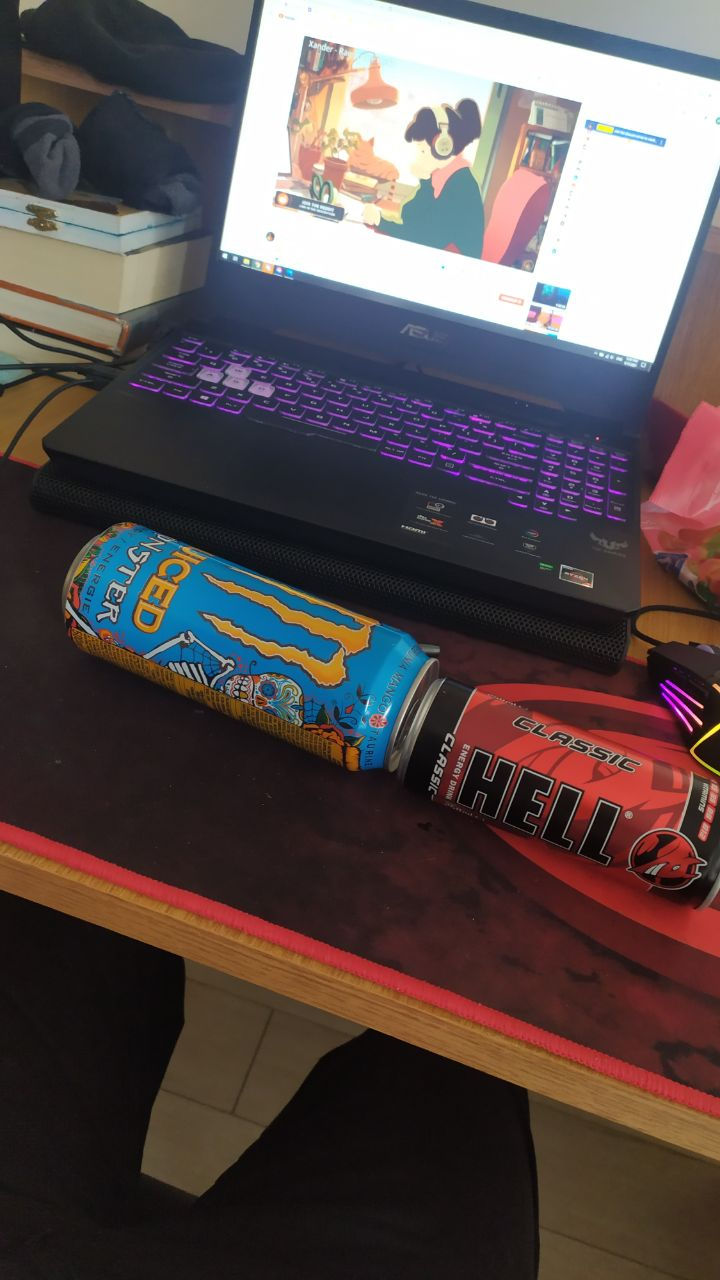Can: (60, 520, 431, 780), (399, 659, 720, 923)
